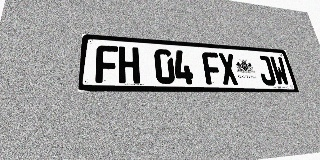0: (154, 49, 175, 84)
4: (172, 50, 194, 84)
F: (95, 45, 118, 83), (201, 52, 223, 85)
H: (119, 46, 140, 84)
J: (256, 55, 277, 86)
W: (269, 56, 290, 86)
X: (218, 53, 239, 85)
